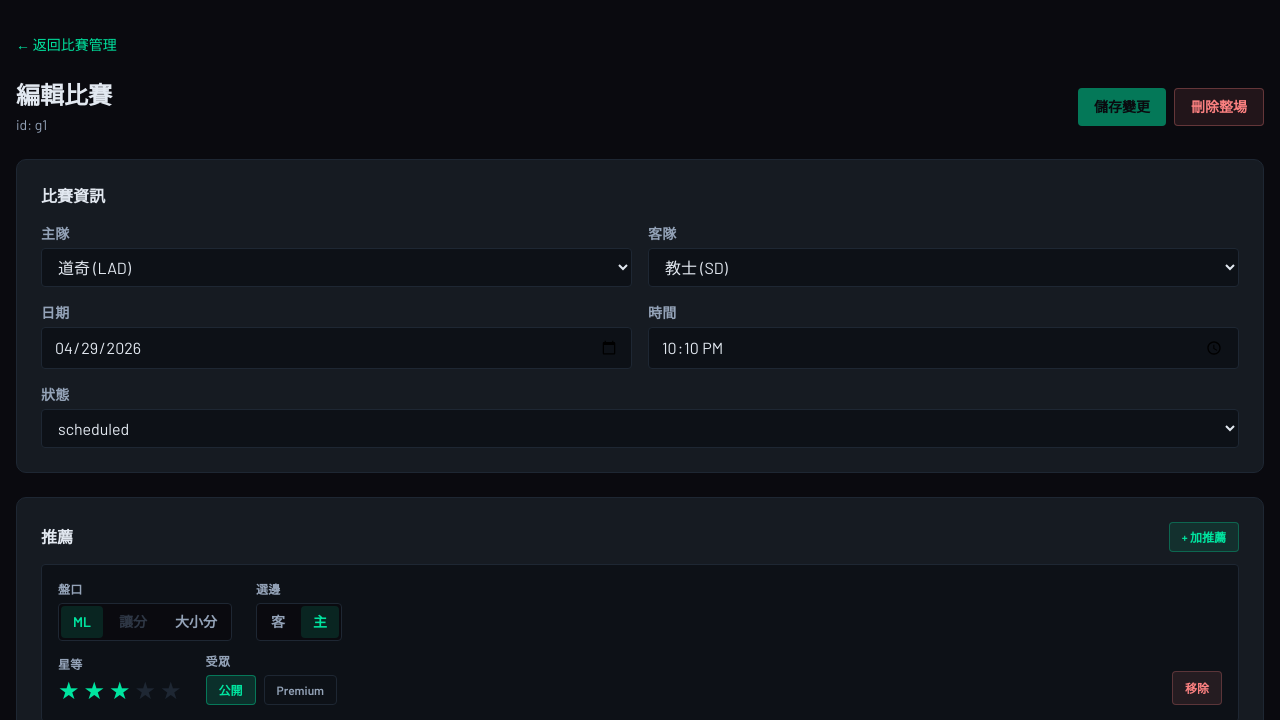
Test case: EditGamePage — form mode › changing a pick on an existing rec marks the page dirty (Save enables)
Click the radio button labelled "客": [278, 622] box [259,606,297,638]
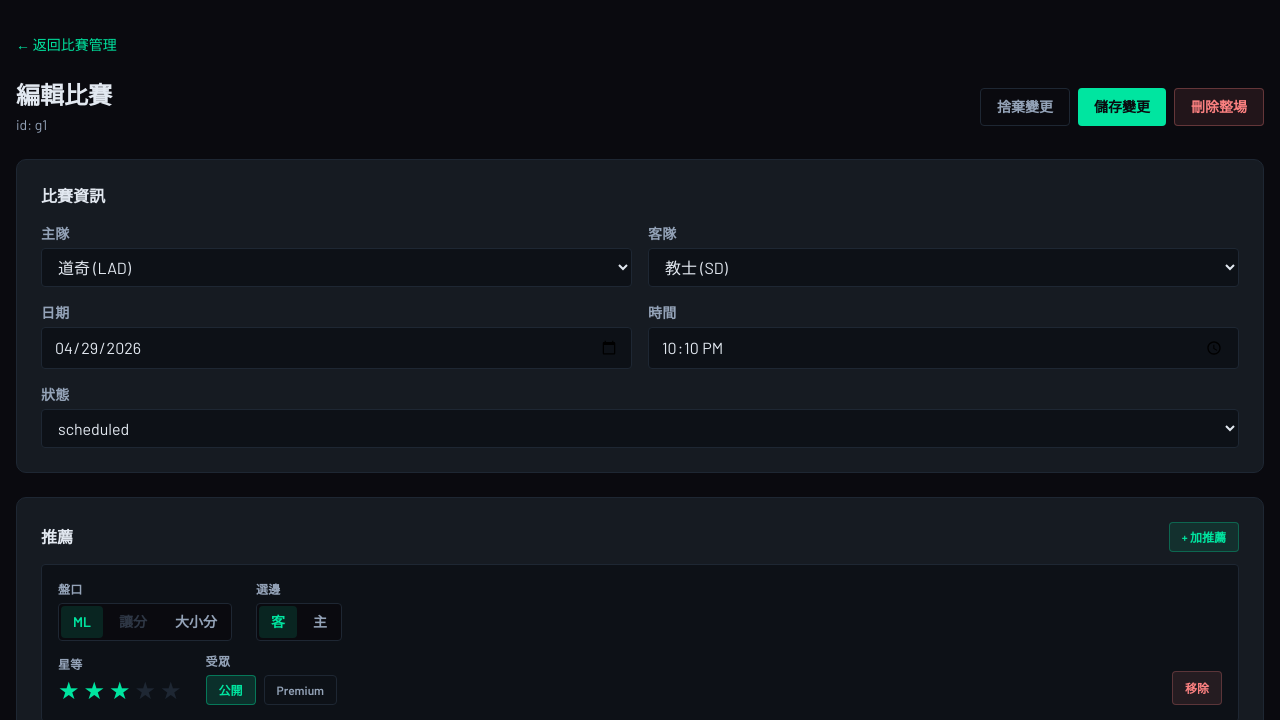
expect the button "儲存變更" is enabled: met, box [1078,88,1166,126]
